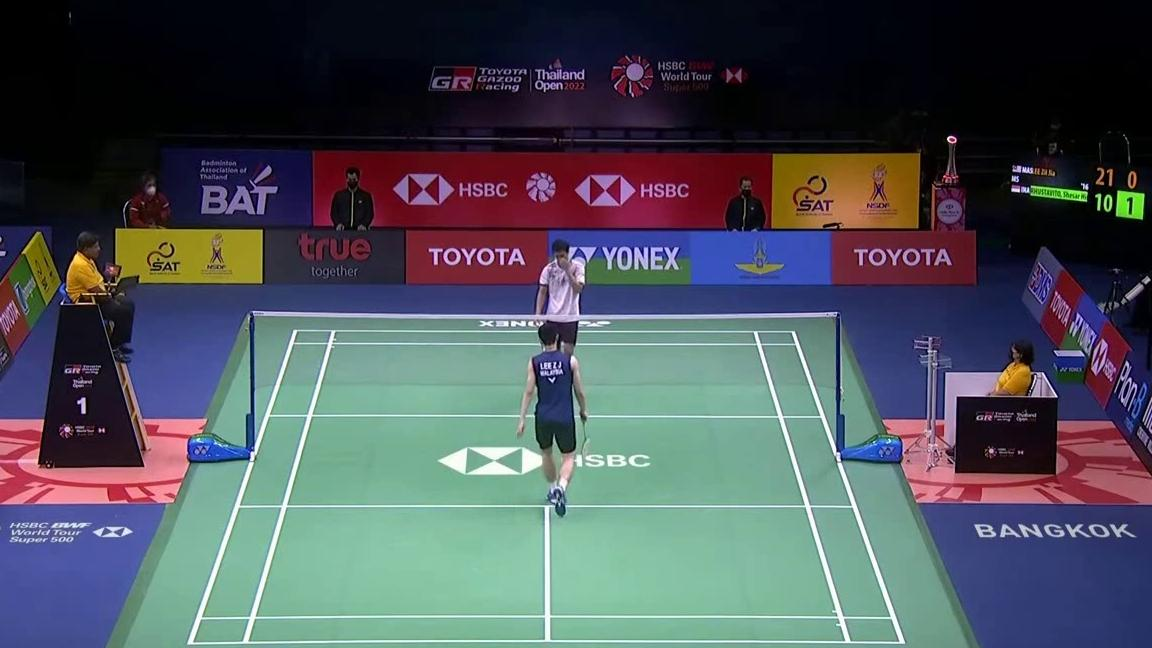racket: (580, 410, 593, 457)
